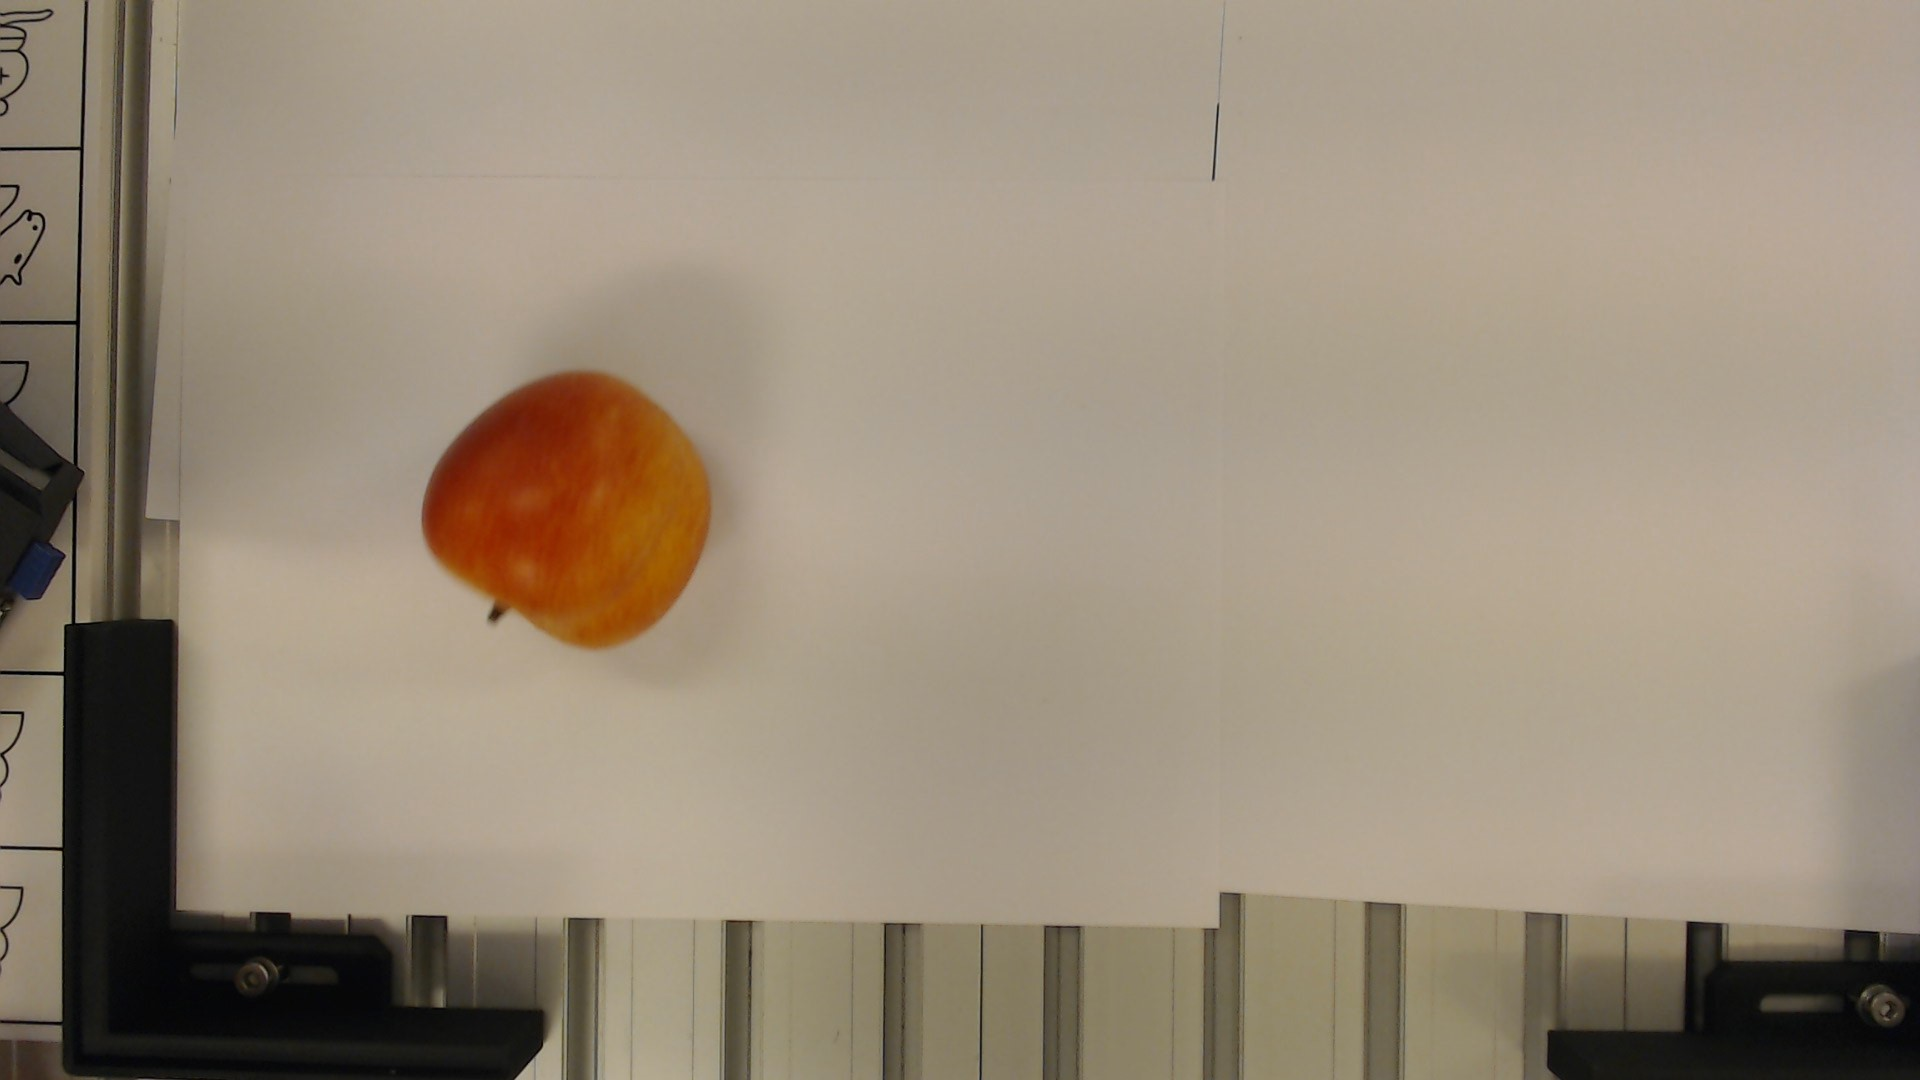Peach: (402, 365, 719, 654)
